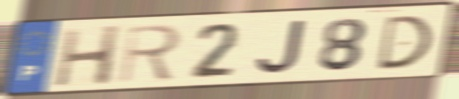2: (187, 21, 242, 79)
8: (317, 17, 369, 74)
D: (373, 13, 435, 73)
H: (51, 23, 125, 89)
J: (253, 18, 308, 77)
R: (115, 22, 184, 86)
